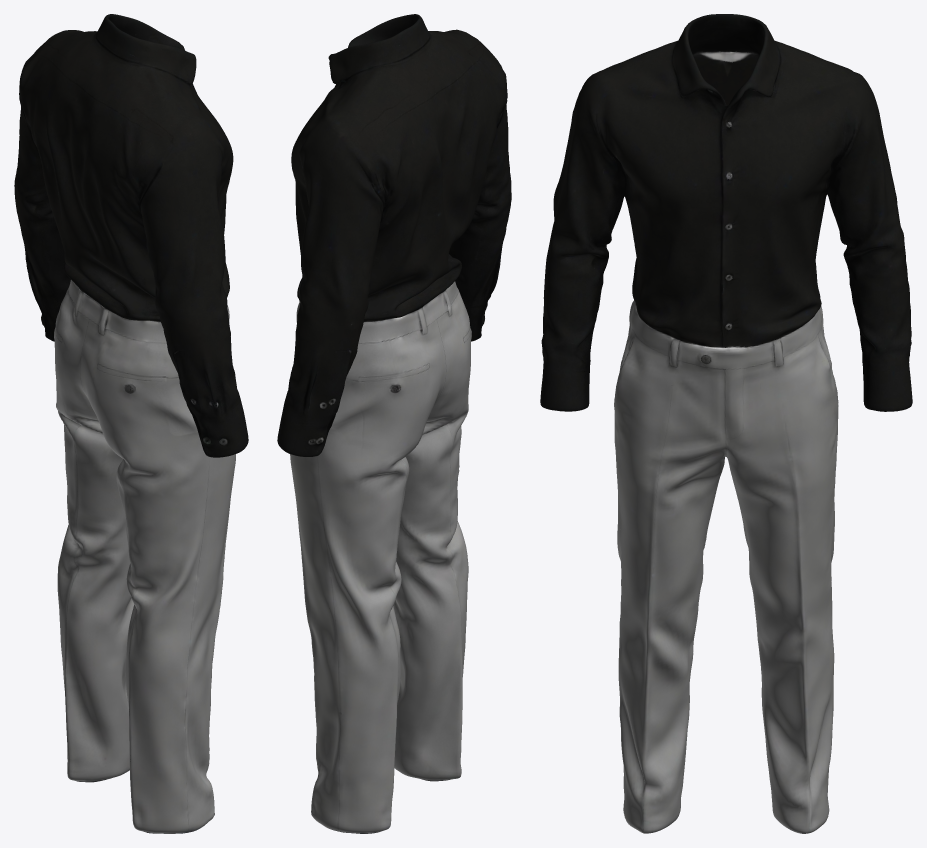
File: black-white-pent-shirts.glb
The picture shows the model from 3 angles, left to right: view 1: azimuth 30°, elevation 25°; view 2: azimuth 150°, elevation 25°; view 3: azimuth 270°, elevation 25°; orthographic projection. The views are drawn at different scales.
Parts seen in each view (by area): view 1: tripo_node_b36941ee; view 2: tripo_node_b36941ee; view 3: tripo_node_b36941ee.
Boxes of the visible parts, <box> form: tripo_node_b36941ee: <box>14,14,248,833</box>; tripo_node_b36941ee: <box>277,14,511,833</box>; tripo_node_b36941ee: <box>540,14,912,833</box>.
Bounding box in the file's own units: 0.2009 × 0.9996 × 0.4237.
Materials: 1 (1 with a texture image).
